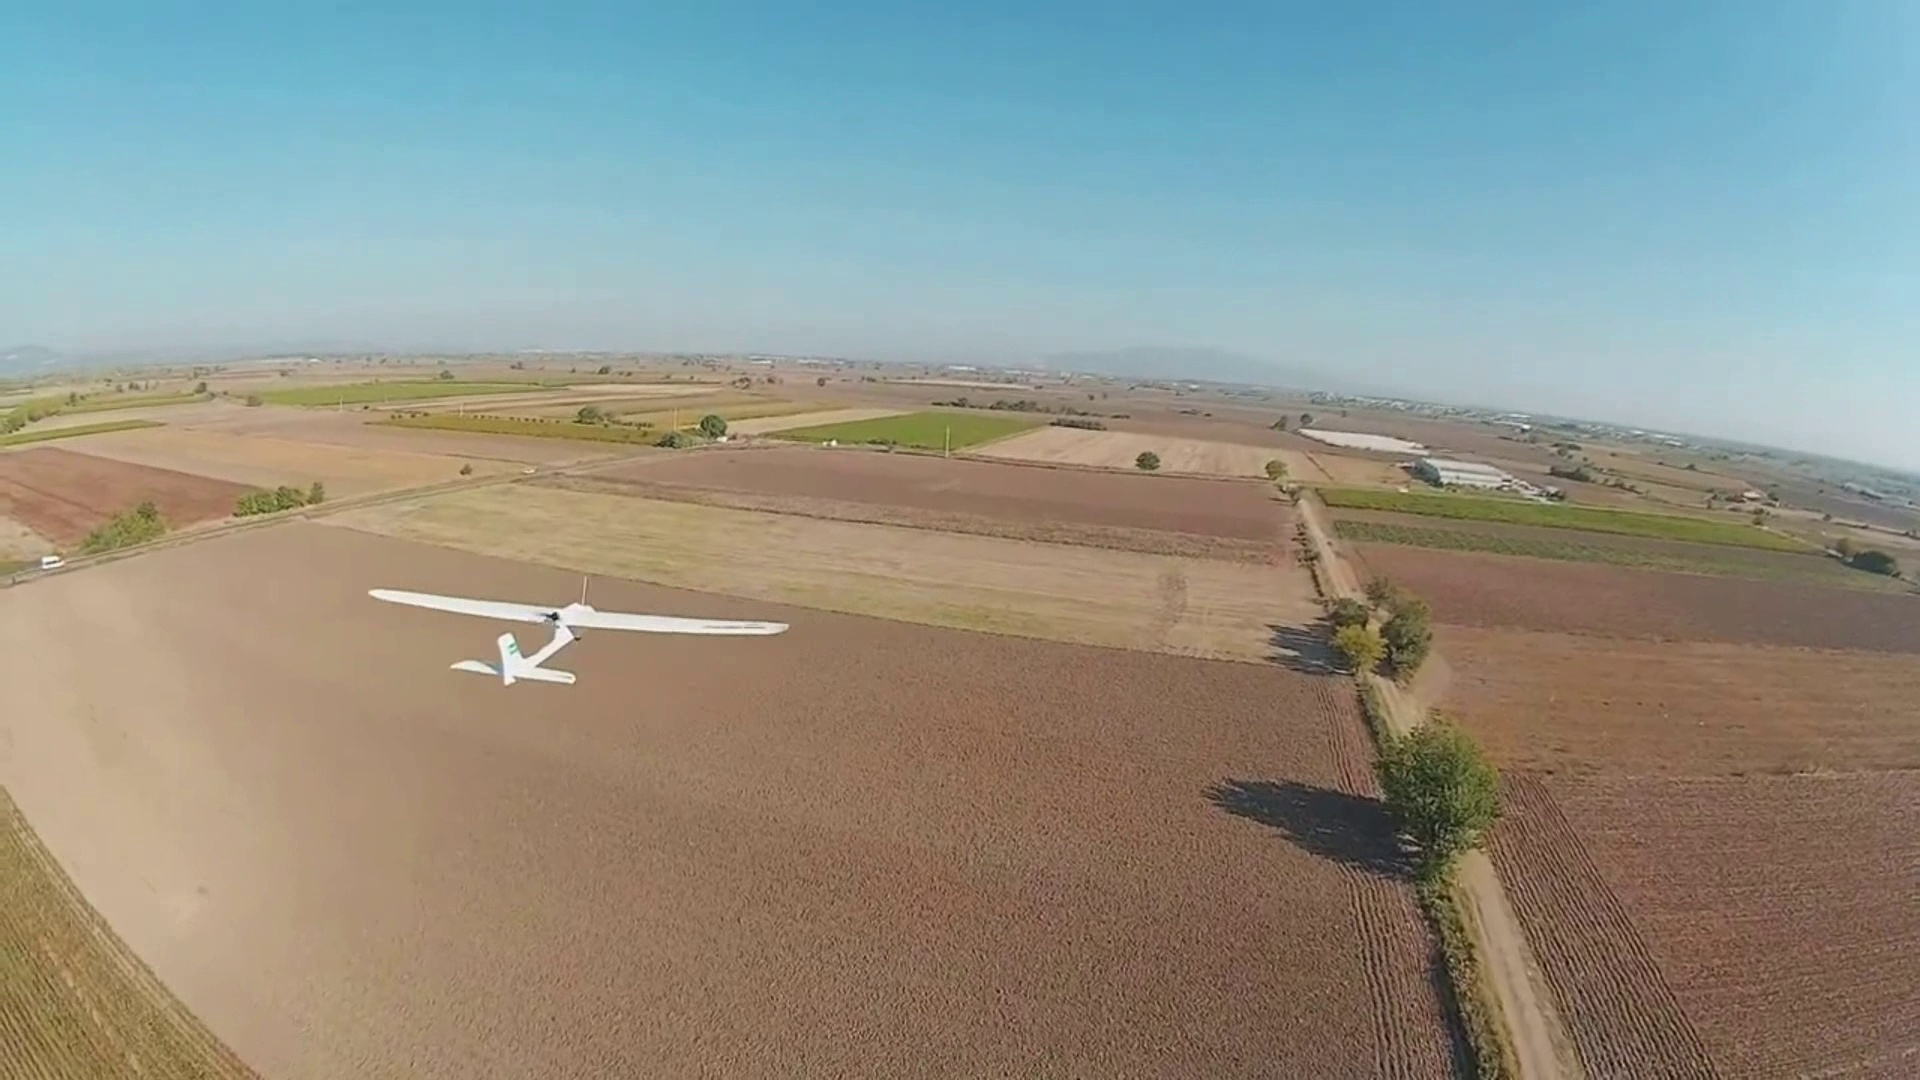airplane: (371, 578, 789, 687)
